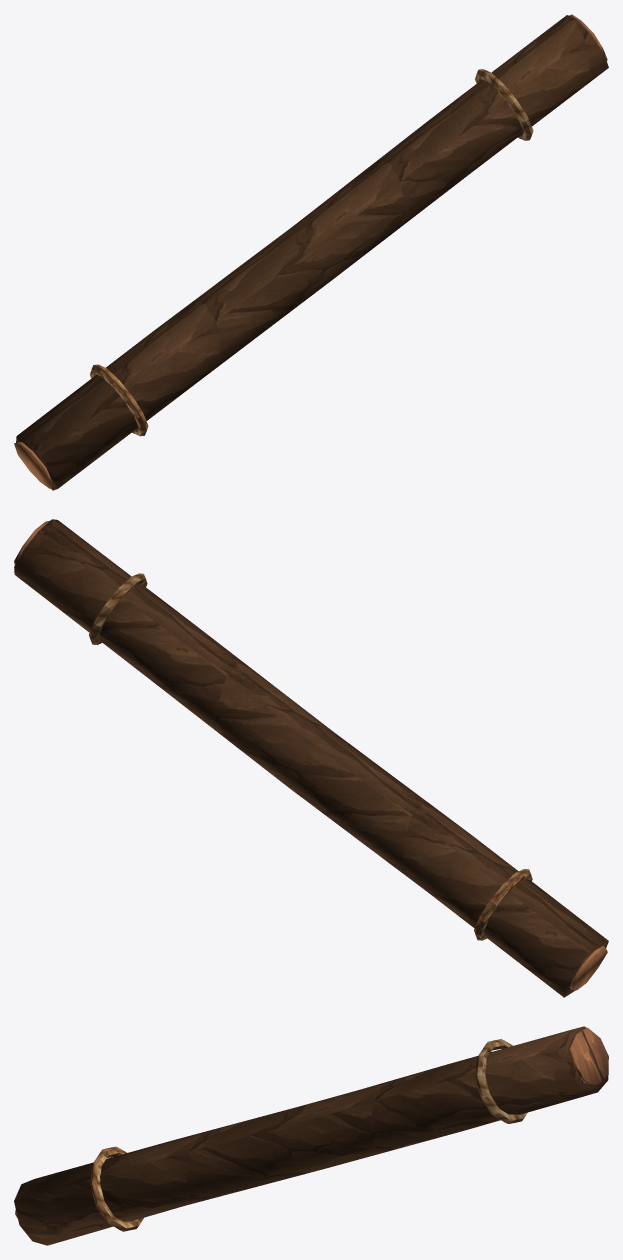
The model's file is beam_2m_26.glb.
The picture shows the model from 3 angles, top to bottom: view 1: azimuth 30°, elevation 25°; view 2: azimuth 150°, elevation 25°; view 3: azimuth 330°, elevation 25°; orthographic projection.
Parts seen in each view (by area): view 1: model; view 2: model; view 3: model.
Boxes of the visible parts, <box> form: model: <box>14,14,608,490</box>; model: <box>14,519,608,997</box>; model: <box>14,1026,608,1245</box>.
Bounding box in the file's own units: 1.88 × 1.07 × 0.248.
Materials: 4 (4 with a texture image).
